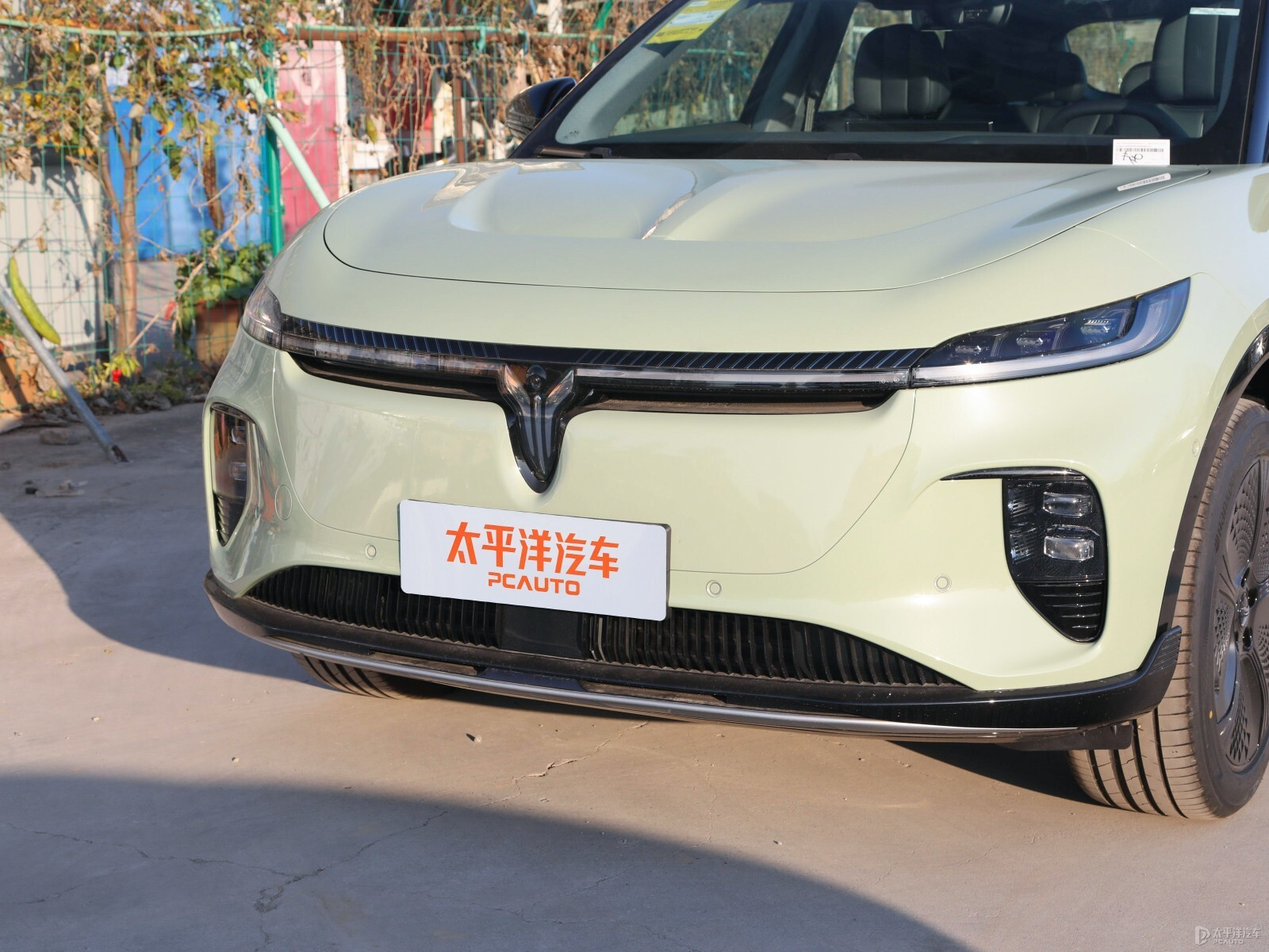VOYAH: (504, 365, 573, 474)
